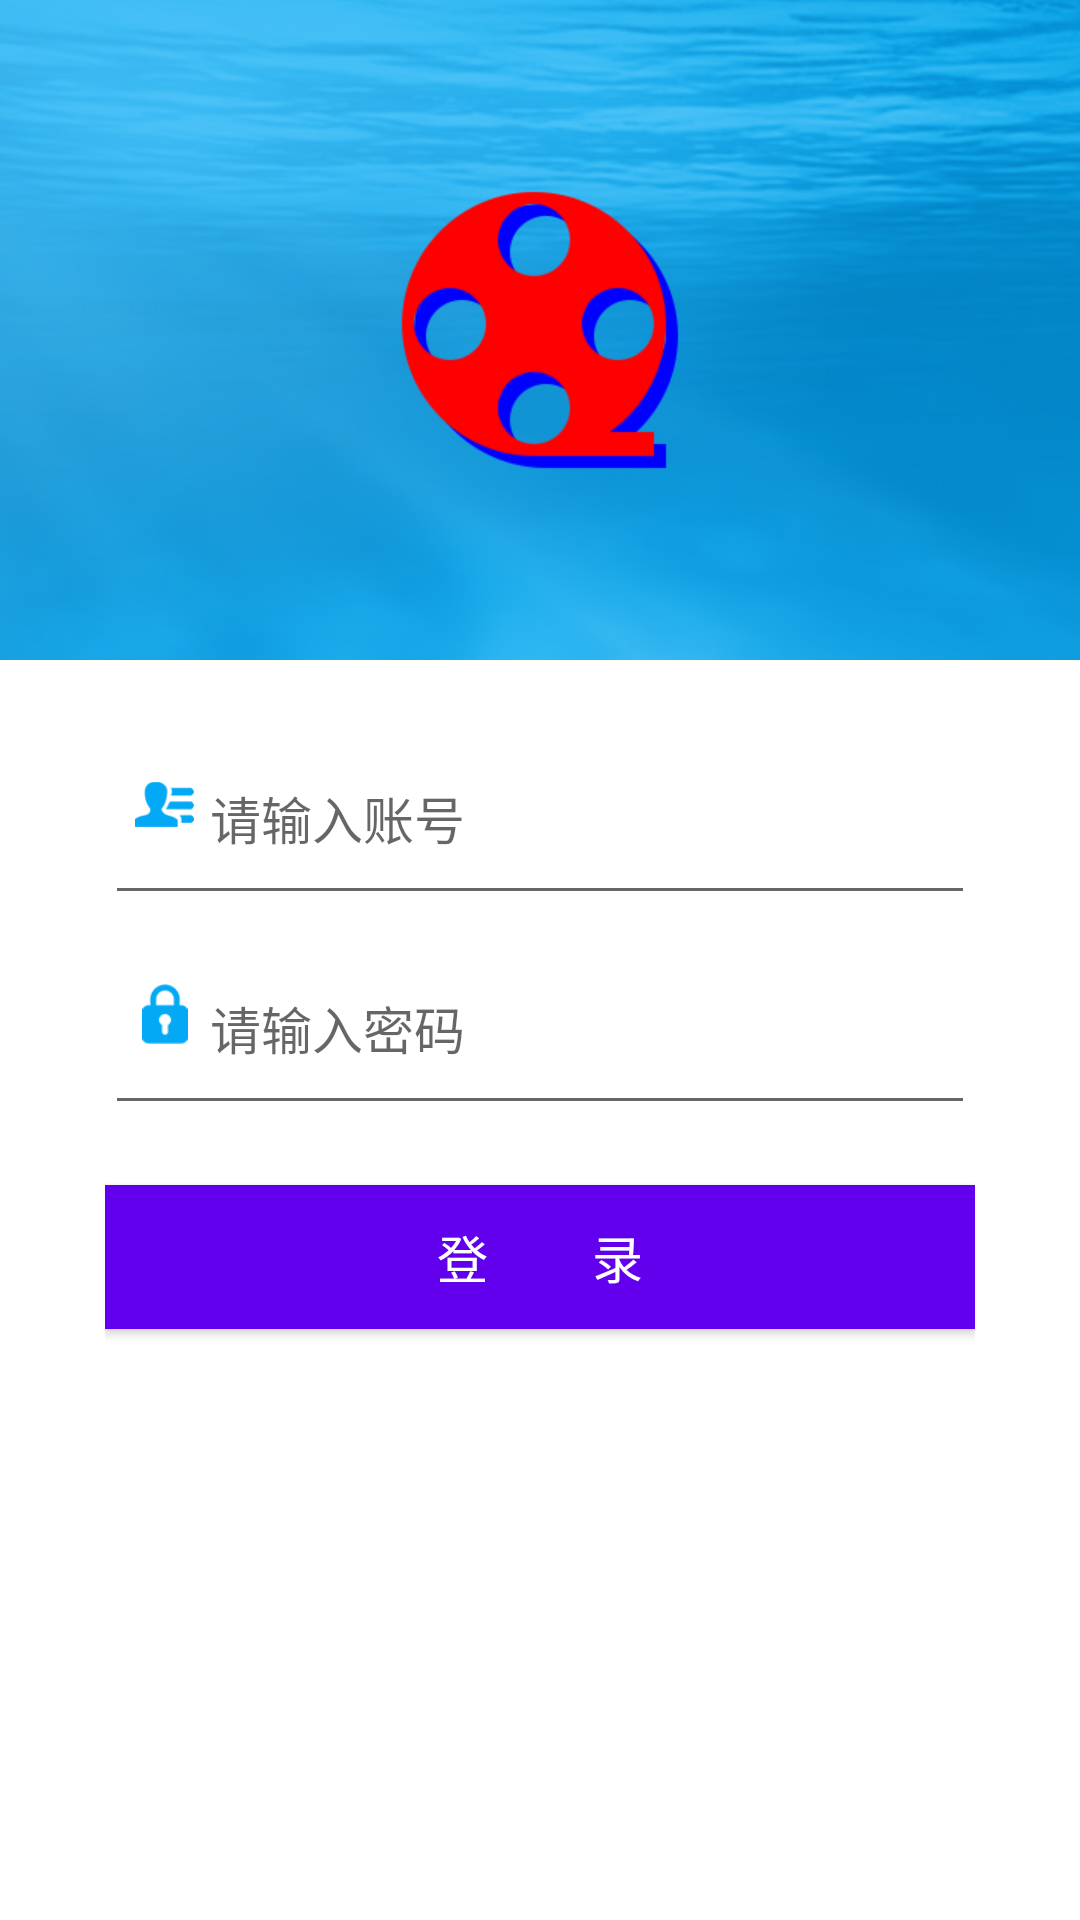

Where to tap for icons on this 1080x1920 app screen, as (x=x, y=y):
et pwd: (x=165, y=1014)
et username: (x=164, y=804)
